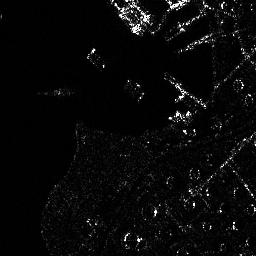ship: (83, 47, 109, 74)
